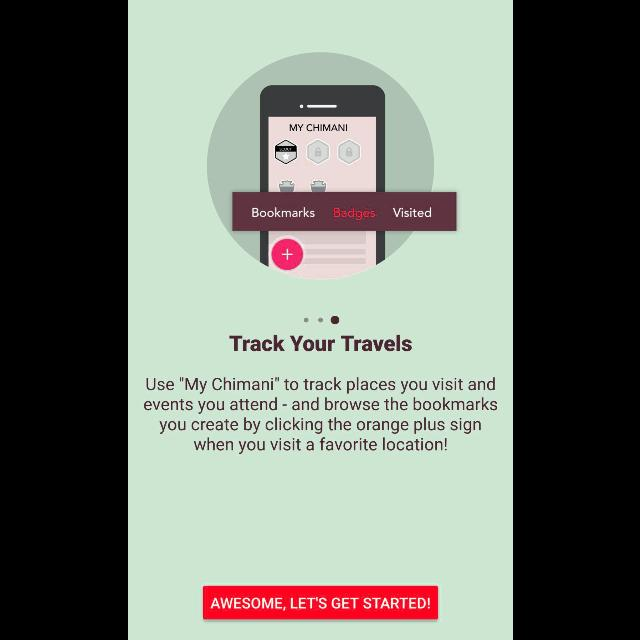image: (206, 52, 456, 280)
pageindicator: (302, 316, 340, 324)
text: (143, 376, 497, 454), (228, 334, 412, 352)
textbutton: (202, 586, 438, 620)
